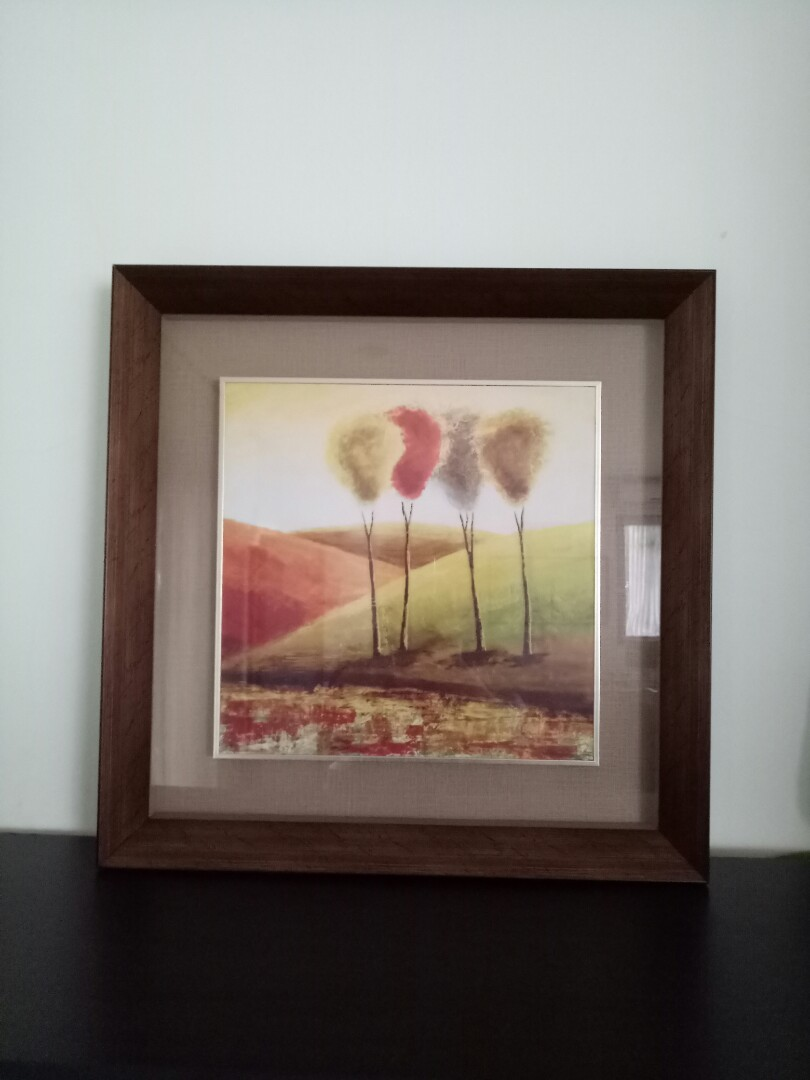lukisan: (98, 231, 729, 926)
